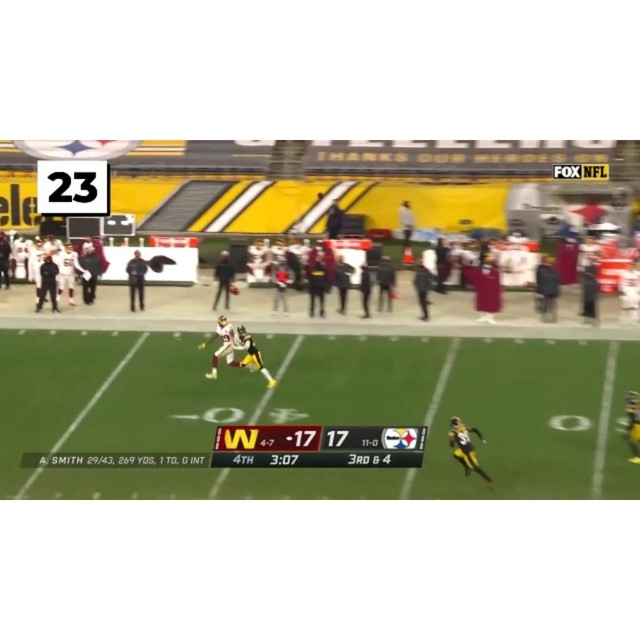american-football-player: (448, 415, 495, 489), (201, 315, 243, 379), (235, 326, 278, 388), (619, 391, 640, 464)
